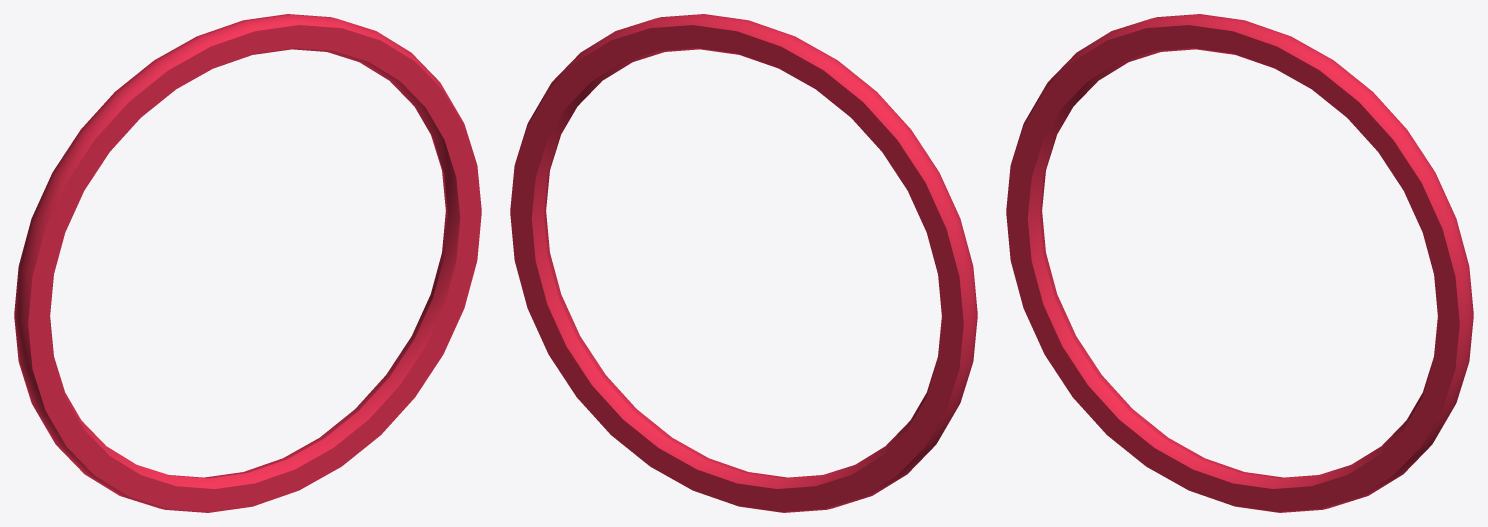
File: NegativeHoleModel.fbx
3 renders of one model, left to right at view 1: azimuth 30°, elevation 25°; view 2: azimuth 150°, elevation 25°; view 3: azimuth 330°, elevation 25°, orthographic.
Visible parts, largest first — view 1: Cylinder.013; view 2: Cylinder.013; view 3: Cylinder.013.
Boxes of the visible parts, x1,y1,x2,y2 form: Cylinder.013: (14, 14, 481, 512); Cylinder.013: (510, 14, 977, 512); Cylinder.013: (1006, 14, 1473, 512).
Bounding box in the file's own units: 146 × 146 × 7.63.
1 material, 1 textured.
